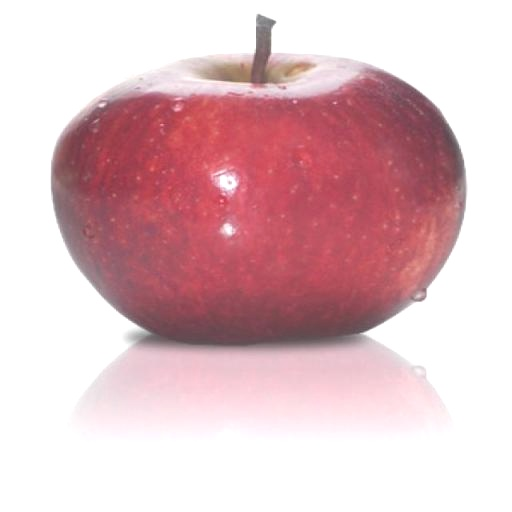fruit: (52, 54, 463, 343)
